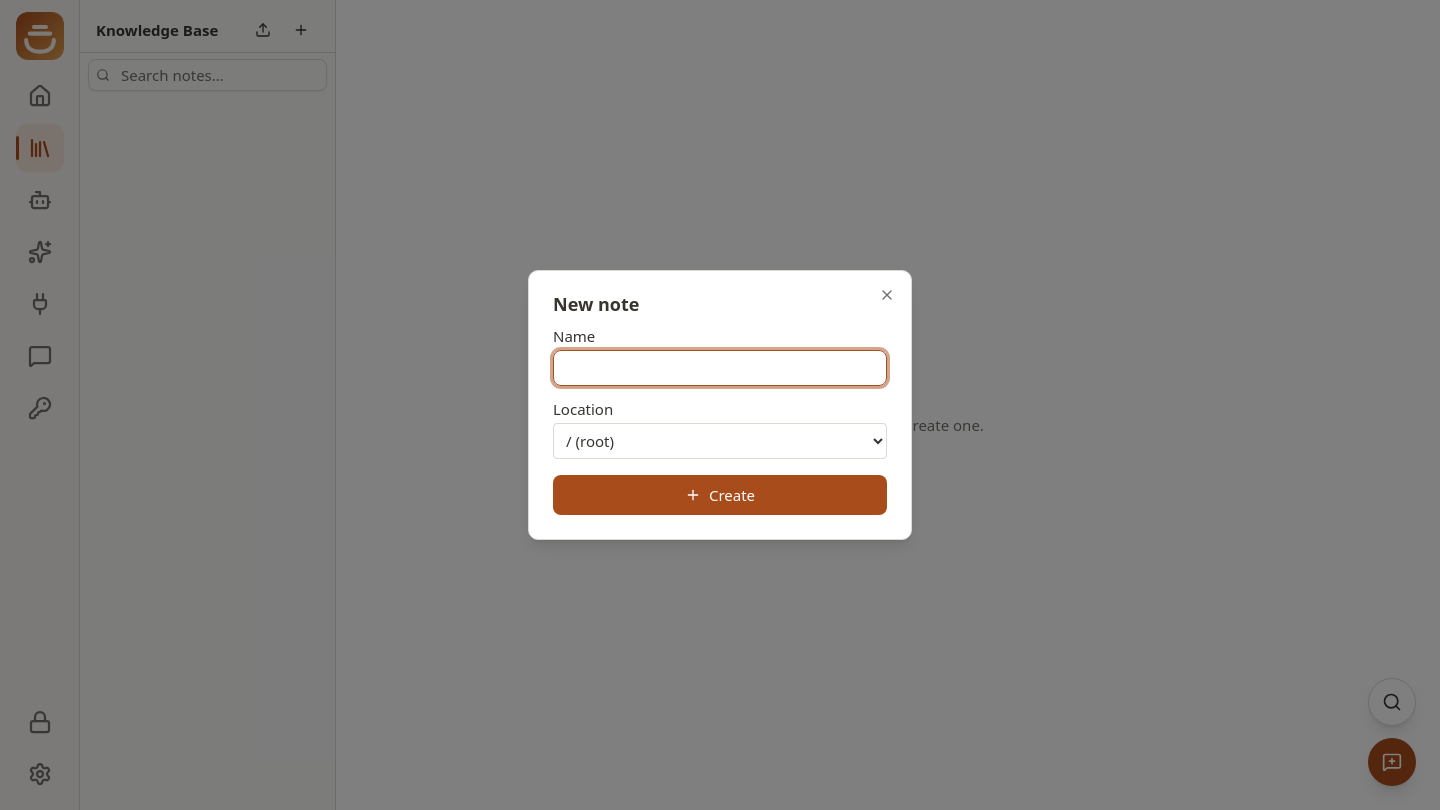
Test: creating a note from the palette flow opens it in the rich text editor
Expected: the dialog is shown, [528, 270, 912, 540]
Step 1. Type "ideas" into the field labelled "Name" → (720, 368), box [553, 350, 887, 386]
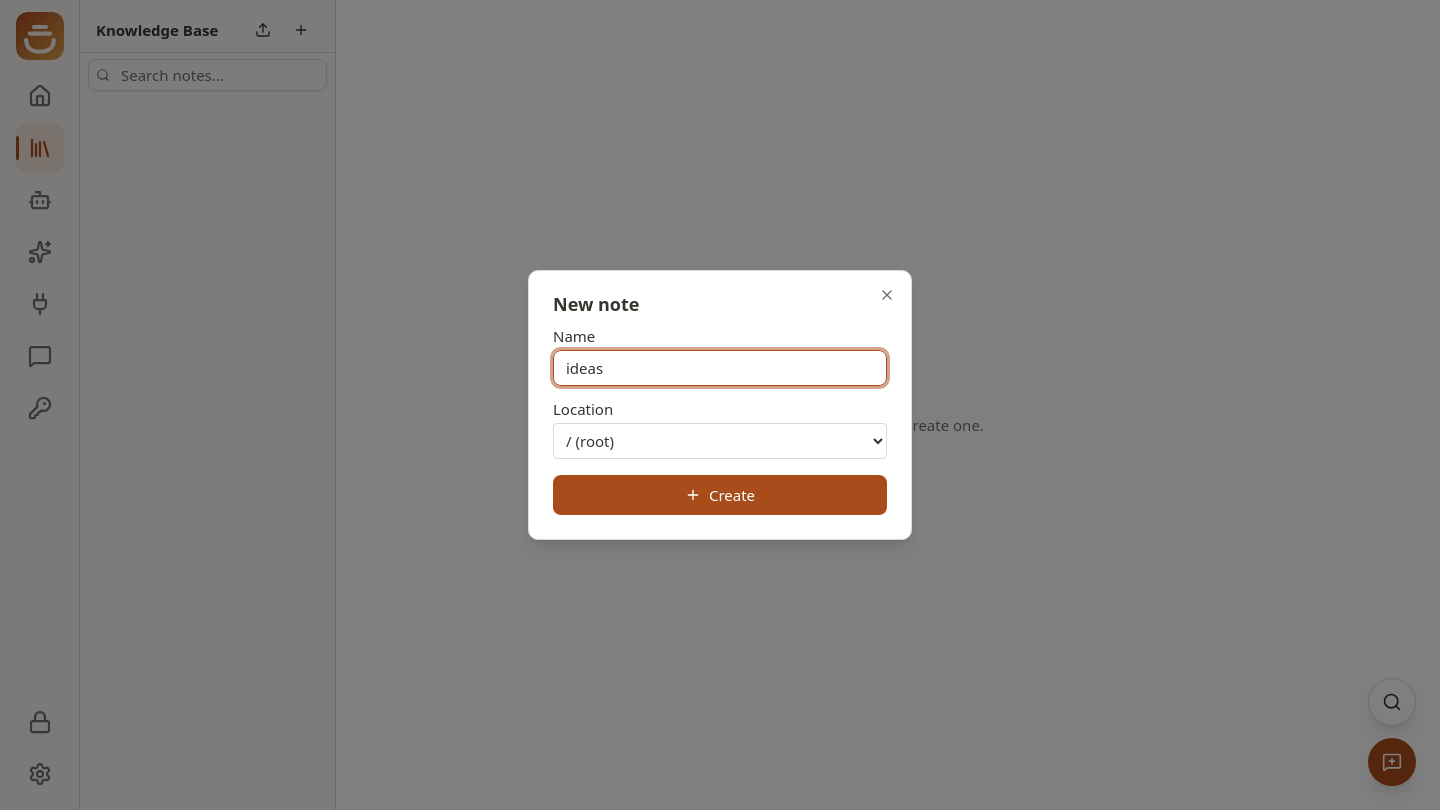
Step 2. Click the button "Create" → click(720, 495), box [553, 475, 887, 515]
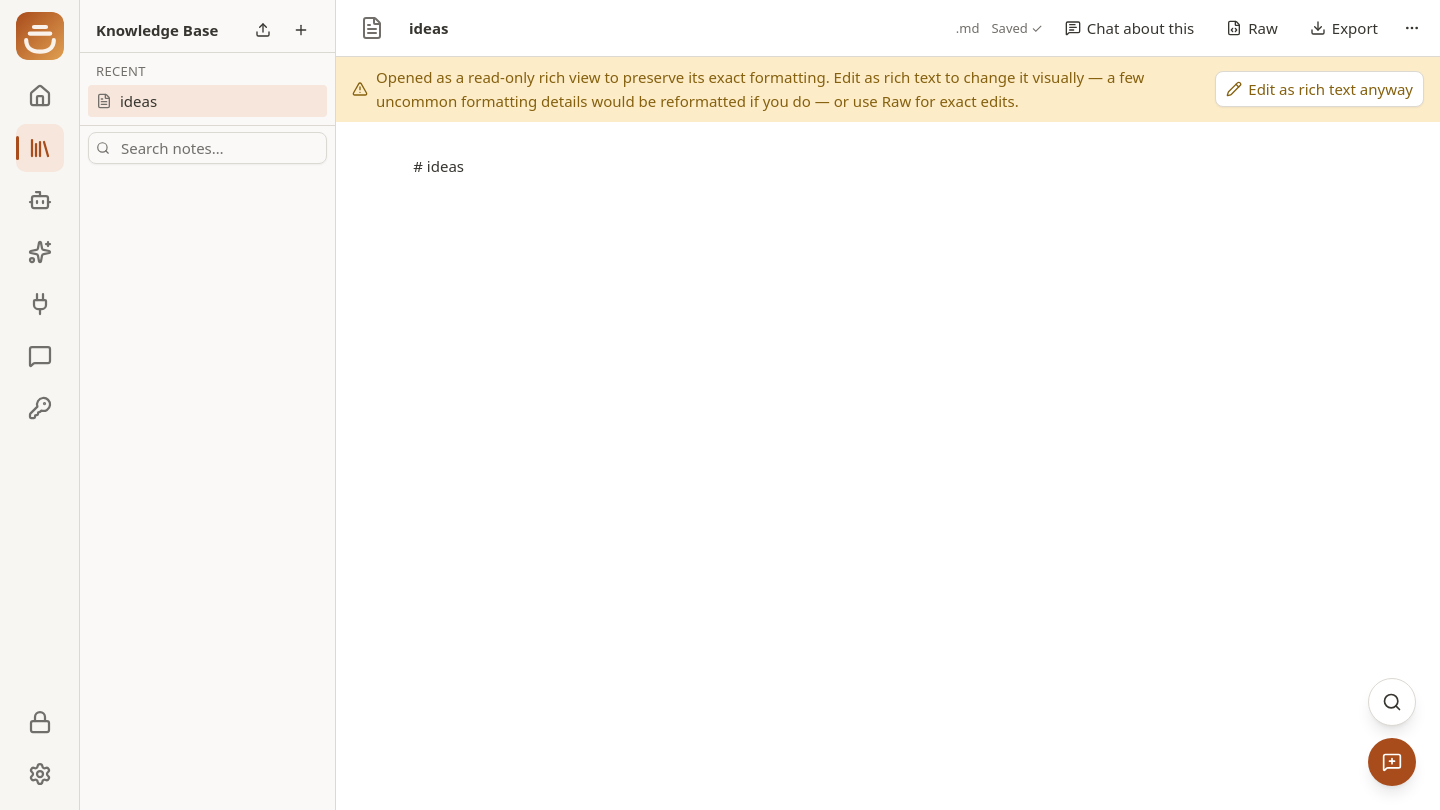
Expected: the field showing "ideas" is shown, [404, 15, 950, 41]
